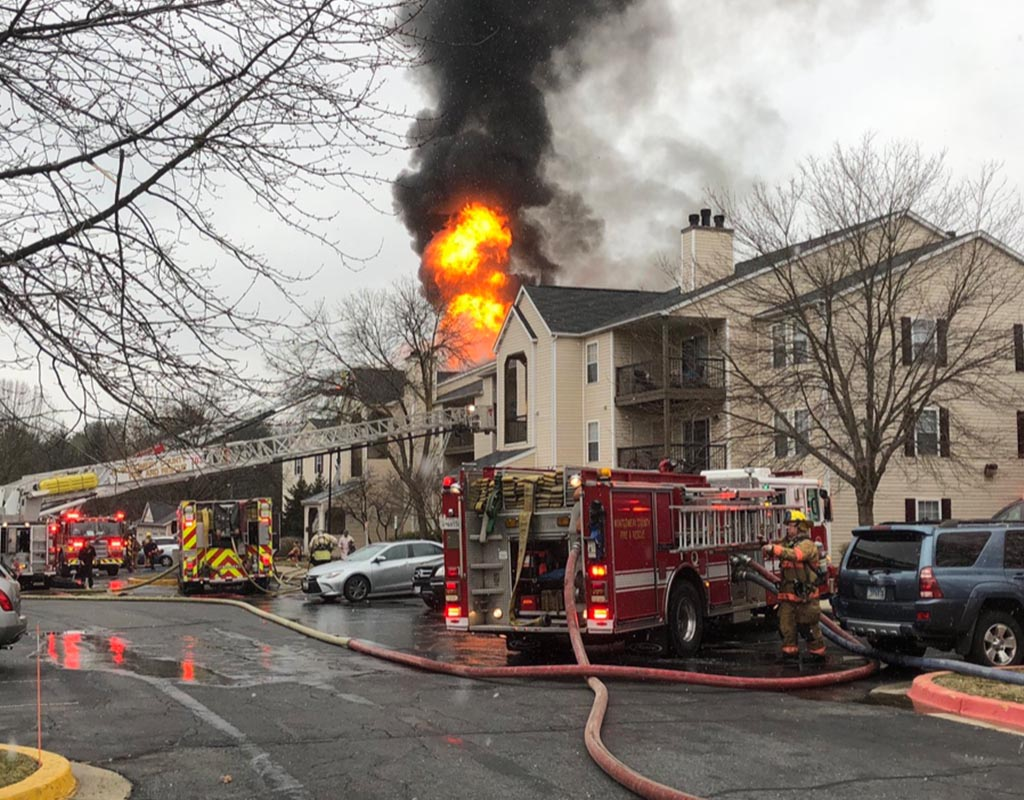Fire: (420, 195, 507, 352), (446, 76, 537, 189)
